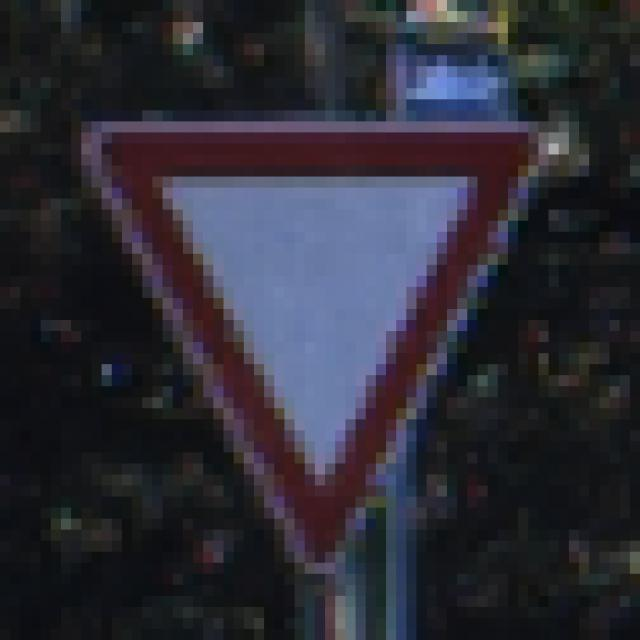Give Way: (52, 67, 590, 586)
